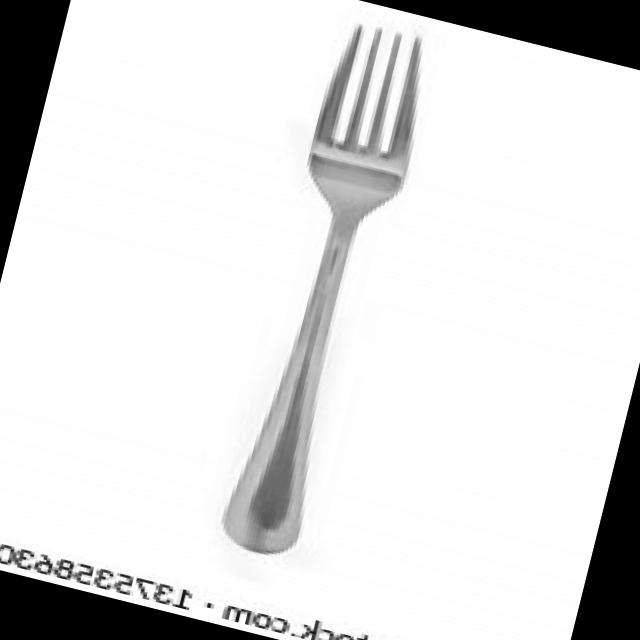fork: (210, 19, 440, 568)
